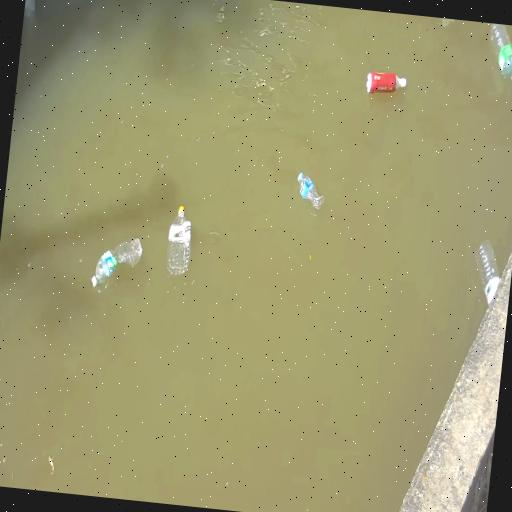plastic: (91, 238, 142, 287), (166, 206, 192, 279), (477, 241, 500, 307), (490, 23, 511, 80), (298, 172, 324, 210), (366, 72, 406, 93)
